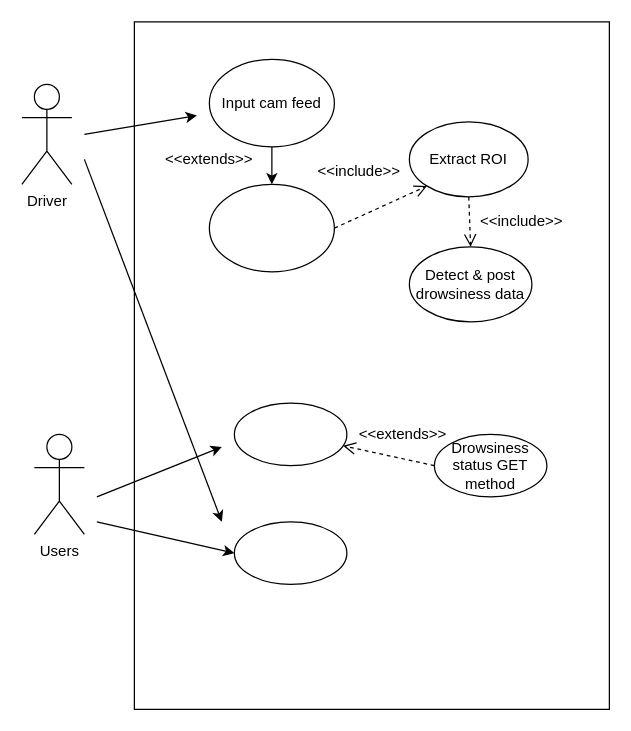
Some shapes in this 631 by 731 pixel diagram are drawn without their labels. Each missing label, with the centre of its shape:
Drowsiness Detector: (x=271, y=227)
Drowsiness status notification: (x=290, y=552)
Start Service: (x=290, y=434)
